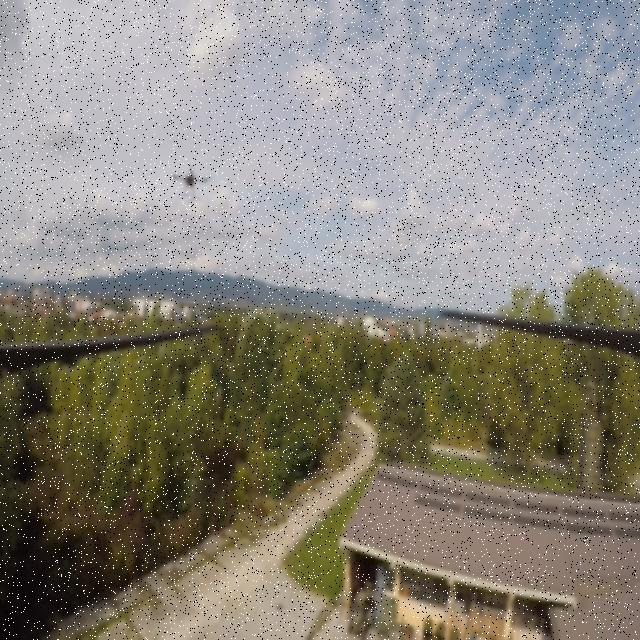UAV: (164, 160, 217, 204)
